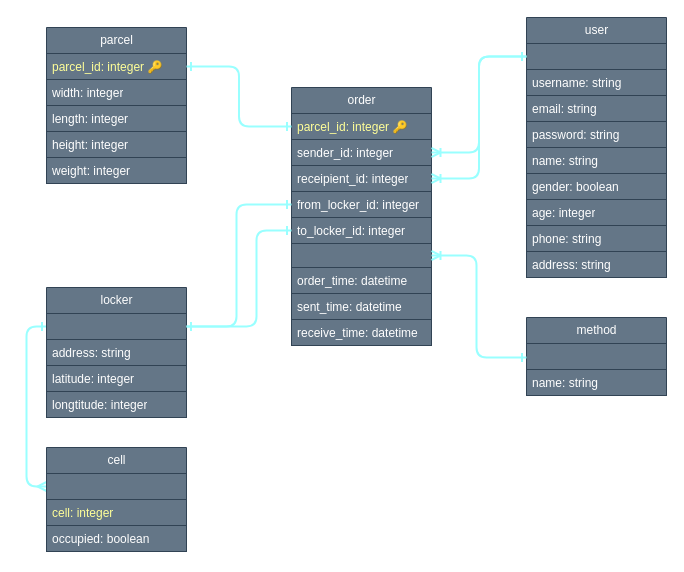
Some shapes in this 684 by 572 pixel diagram are drawn without their labels. Here are the shapes that lost their labels. From the top down, the centre of each, then its label:
At (x=596, y=56): "user_id: integer 🔑".
At (x=361, y=255): "method_id: integer".
At (x=116, y=326): "locker_id: integer 🔑".
At (x=596, y=356): "method_id: integer 🔑".
At (x=116, y=486): "locker_id: integer".
